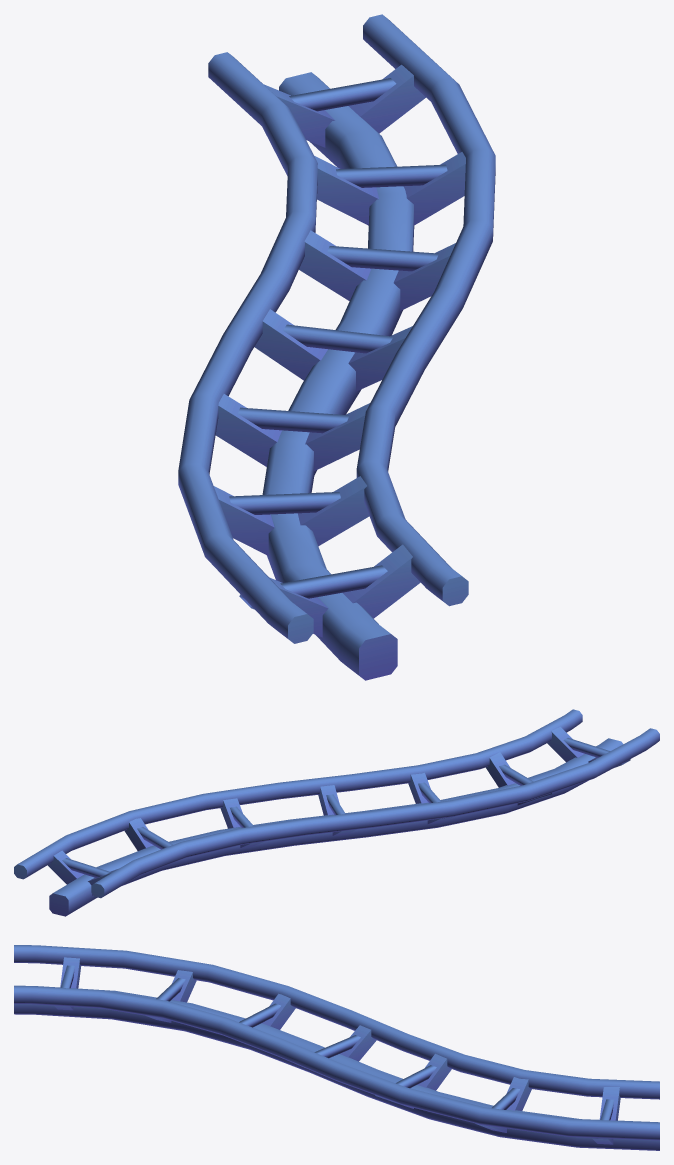
File: coaster-steel-curve.glb
3 views of the same model, one above another, from view 1: azimuth 30°, elevation 25°; view 2: azimuth 150°, elevation 25°; view 3: azimuth 270°, elevation 25° (orthographic). The views are drawn at different scales.
Parts seen in each view (by area): view 1: coaster-steel-curve; view 2: coaster-steel-curve; view 3: coaster-steel-curve.
Boxes of the visible parts, bbox=[...] form: coaster-steel-curve: bbox=[178, 14, 495, 680]; coaster-steel-curve: bbox=[14, 709, 659, 916]; coaster-steel-curve: bbox=[14, 945, 659, 1150].
Size of the model in its own units: 2.7 by 0.2998 by 4.
1 material, 1 textured.
